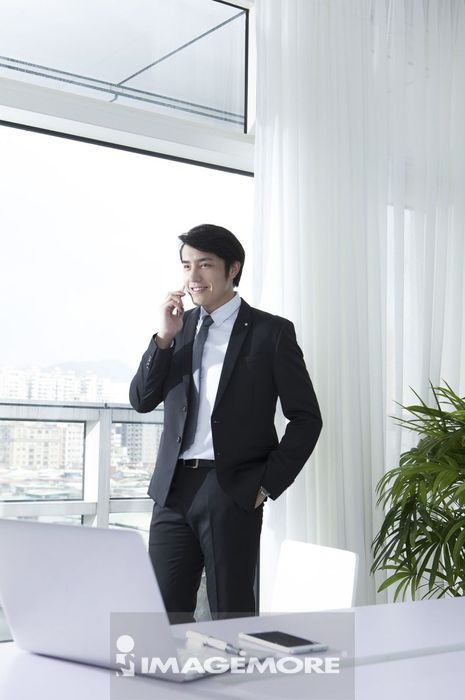talk: (163, 252, 218, 336)
